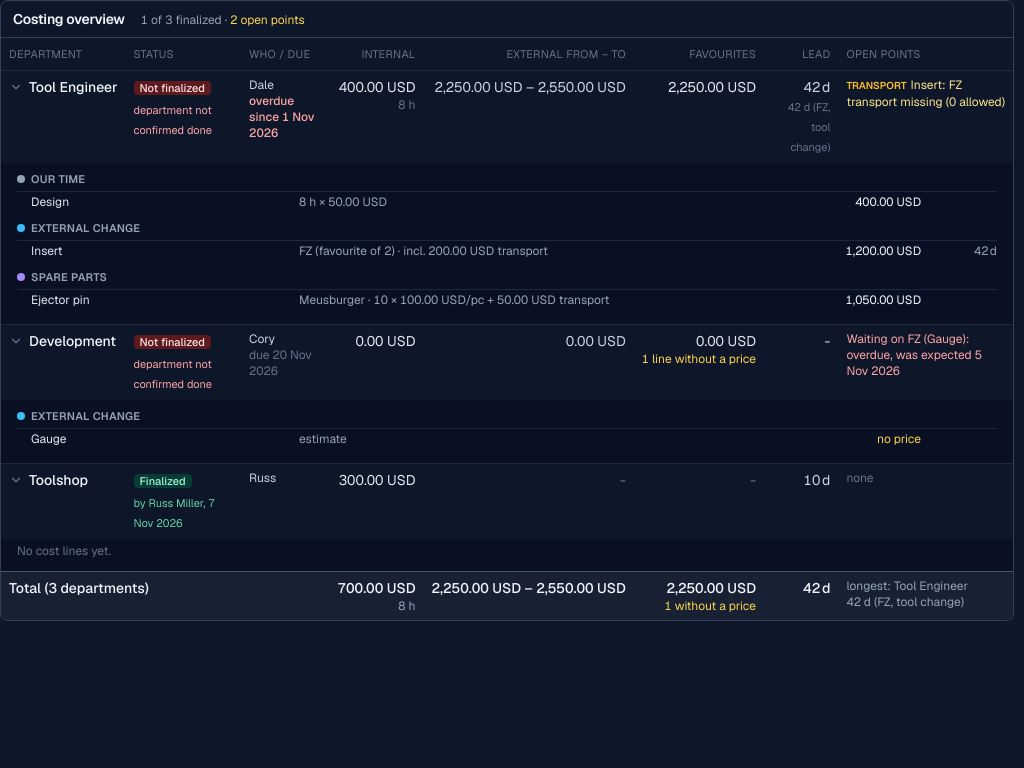
Test: PmCostingOverview › the cost blocks line by line, open for the PM: our time, external, spare (amount x price + transport)
Expected: the element with test id "pm-block-time" is shown, x1=17 y1=169 x2=997 y2=212
Expected: the list item with test id "pm-line-10" reads "Design 8 h × 50.00 USD 400.00 USD", x1=17 y1=191 x2=997 y2=212
Click the button with test id "pm-row-toggle-2" at (16, 87), box x1=9 y1=80 x2=23 y2=94
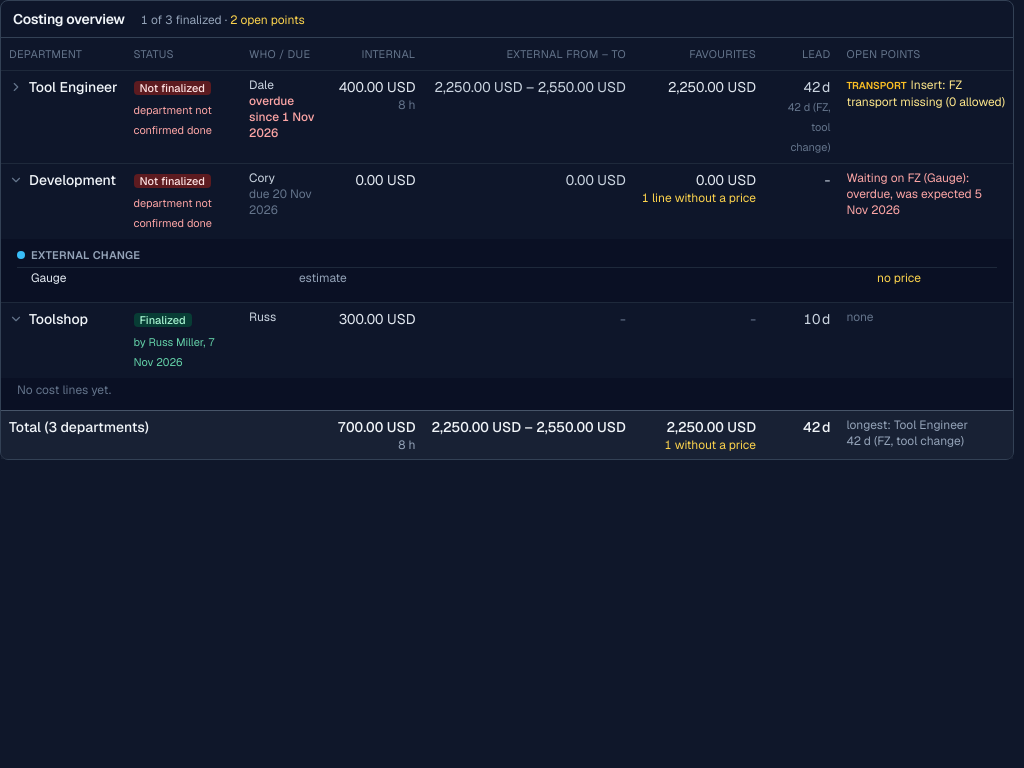
Now the row with test id "pm-lines-2" is gone
